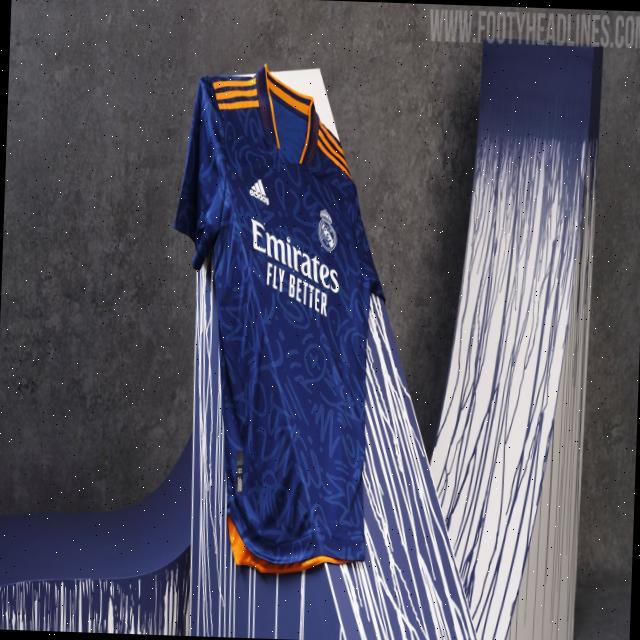Adidas: (248, 177, 270, 204)
Emirates: (246, 217, 343, 296)
